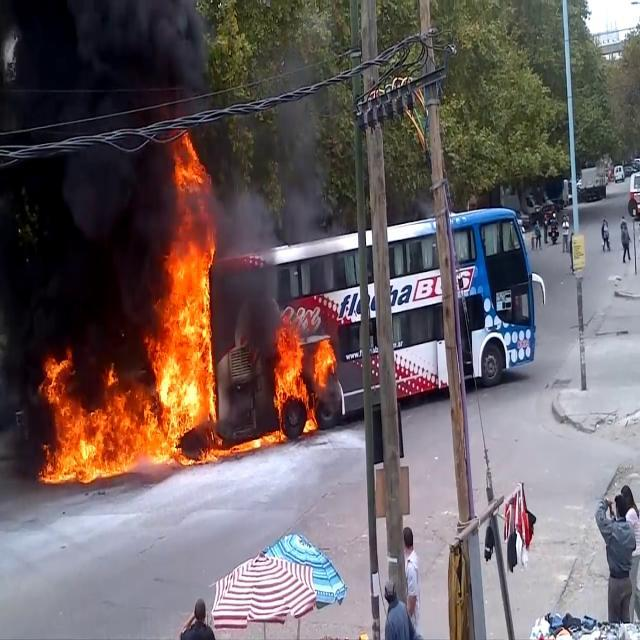Fire: (36, 214, 272, 488), (270, 304, 335, 436)
Smoke: (0, 0, 184, 367), (210, 28, 332, 304)
